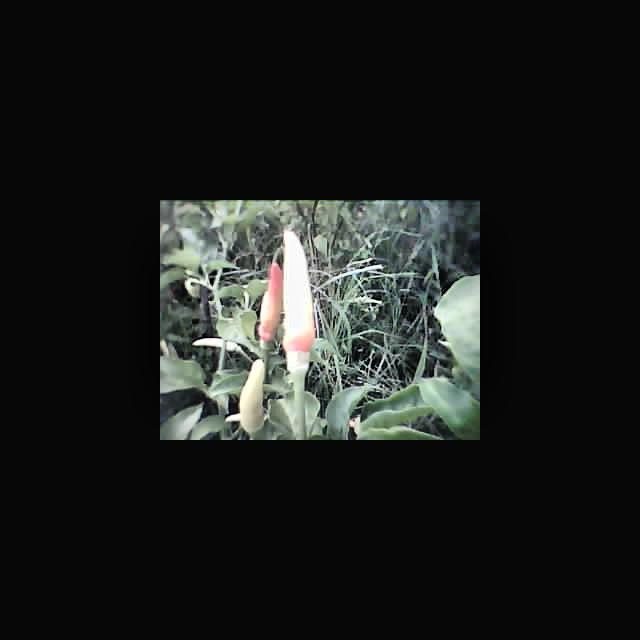Cabai: (285, 231, 321, 364), (255, 262, 283, 348)
